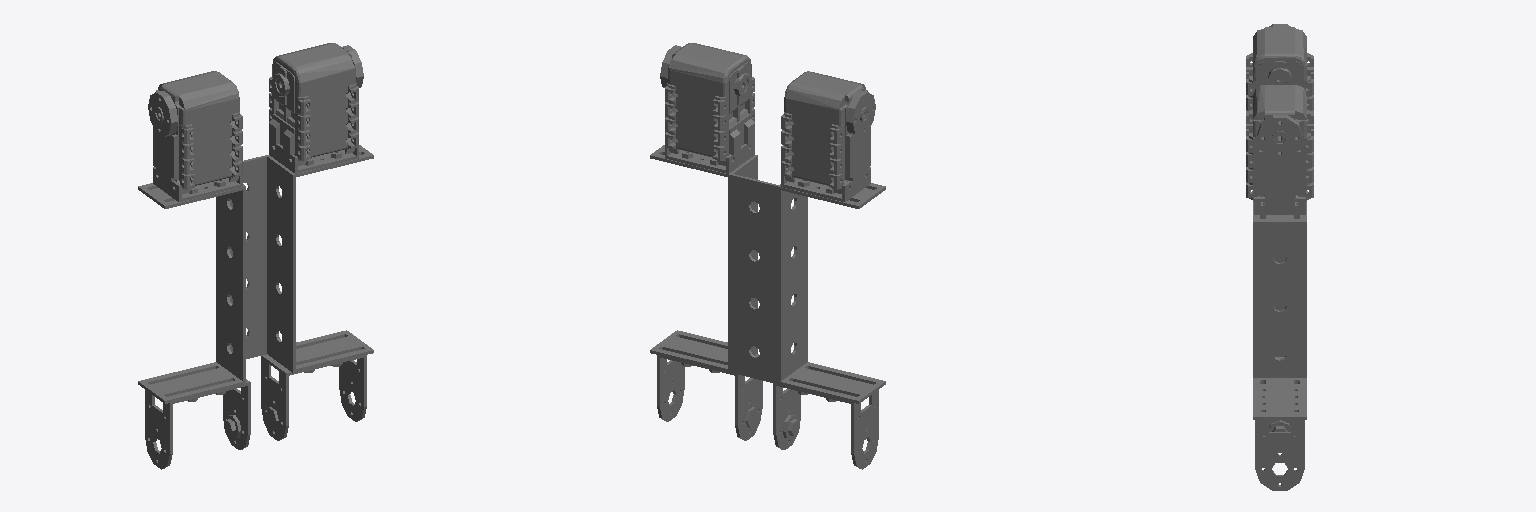
The model's file is centred_forearm_link.obj.
3 renders of one model, left to right at view 1: azimuth 30°, elevation 25°; view 2: azimuth 150°, elevation 25°; view 3: azimuth 270°, elevation 25°, orthographic.
Bounding box in the file's own units: 1.15 × 1.96 × 0.32.